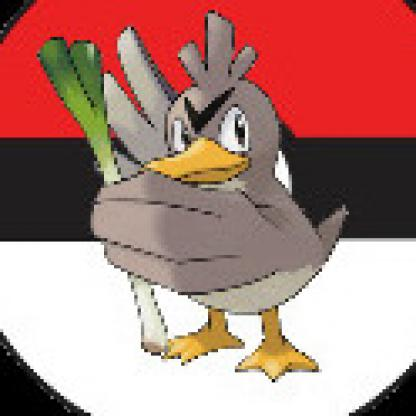Farfetchd: (39, 9, 353, 384)
